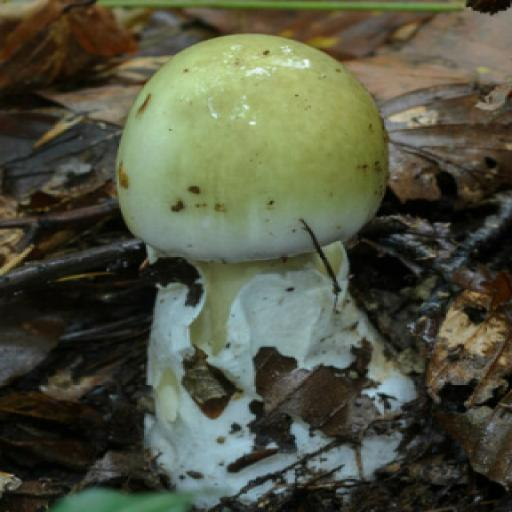mushroom: (92, 10, 443, 512)
